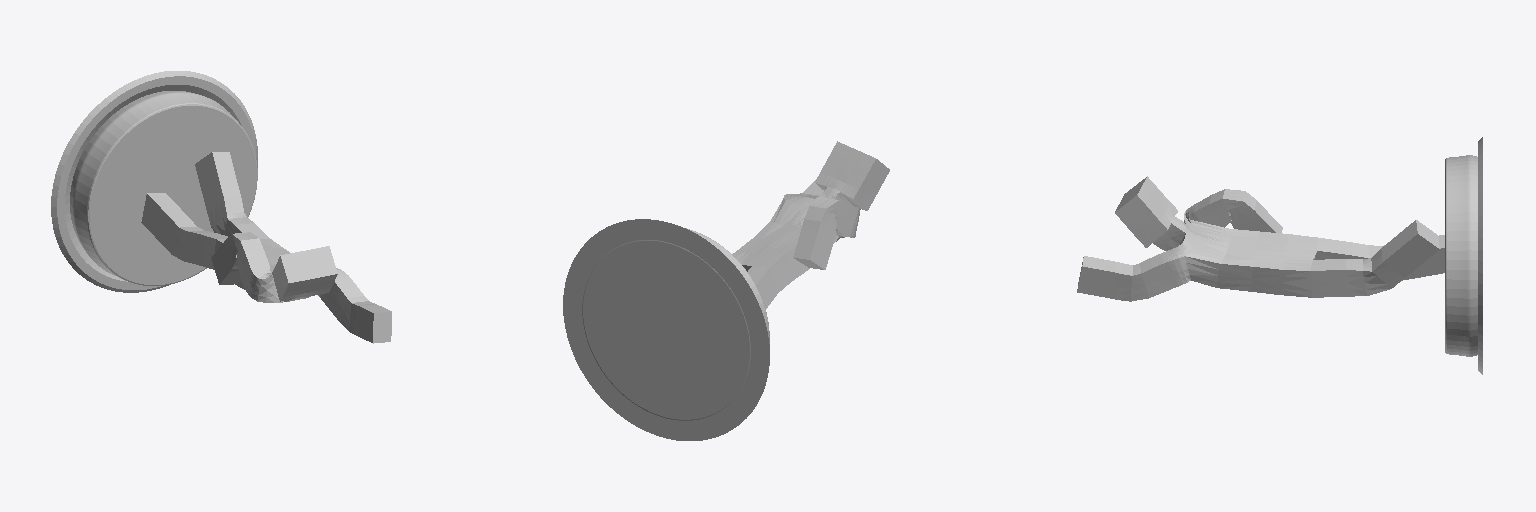
The model's file is Test 3 Amiibo.obj.
The picture shows the model from 3 angles: view 1: azimuth 30°, elevation 25°; view 2: azimuth 150°, elevation 25°; view 3: azimuth 270°, elevation 25°; orthographic projection.
Parts seen in each view (by area): view 1: BezierCurve, Cube.001, Plane; view 2: BezierCurve, Plane, Cube.001; view 3: Cube.001, BezierCurve, Plane.
Part boxes in pixels (bbox=[...]): BezierCurve: bbox=[70, 91, 257, 285]; Cube.001: bbox=[141, 152, 391, 343]; Plane: bbox=[51, 71, 257, 292]; BezierCurve: bbox=[582, 228, 769, 420]; Plane: bbox=[563, 219, 769, 440]; Cube.001: bbox=[732, 141, 889, 308]; Cube.001: bbox=[1077, 176, 1444, 301]; BezierCurve: bbox=[1445, 155, 1477, 356]; Plane: bbox=[1478, 137, 1482, 374].
Bounding box in the file's own units: 54 × 54 × 91.67.